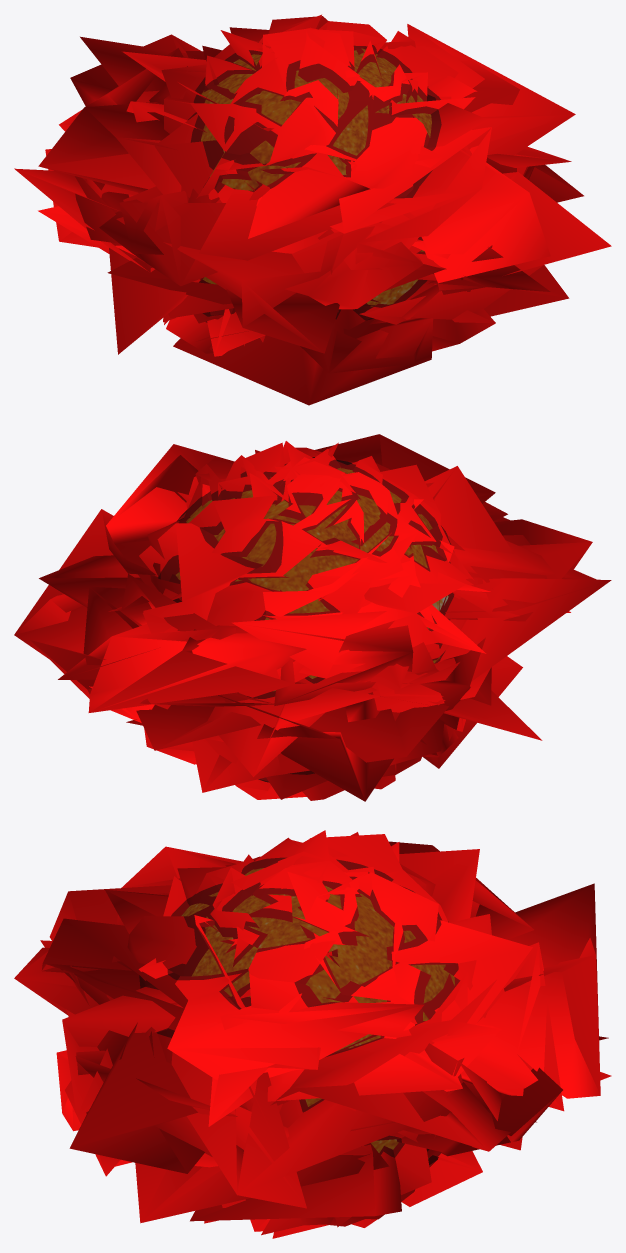
The model's file is sun.gltf.
3 views of the same model, one above another, from view 1: azimuth 30°, elevation 25°; view 2: azimuth 150°, elevation 25°; view 3: azimuth 270°, elevation 25° (orthographic). The views are drawn at different scales.
Visible parts, largest first — view 1: Outer_corona, Inner_corona, Chromosphere, Sun; view 2: Outer_corona, Inner_corona, Chromosphere, Sun; view 3: Outer_corona, Inner_corona, Chromosphere, Sun.
Part boxes in pixels (x1,y1,x2,y2): Outer_corona: (14,24,611,405); Inner_corona: (149,14,471,324); Chromosphere: (188,43,441,322); Sun: (201,48,431,306); Outer_corona: (14,434,611,801); Inner_corona: (147,441,482,800); Chromosphere: (158,457,453,782); Sun: (176,467,448,691); Outer_corona: (14,841,611,1227); Inner_corona: (127,830,491,1238); Chromosphere: (139,857,459,1166); Sun: (182,868,454,1158).
Bounding box in the file's own units: 48.66 × 32.43 × 47.67.
